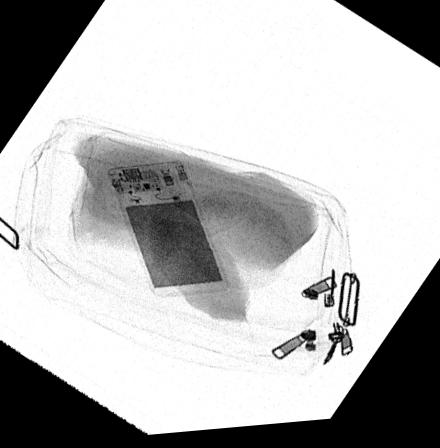Powerbank: (104, 162, 230, 301)
